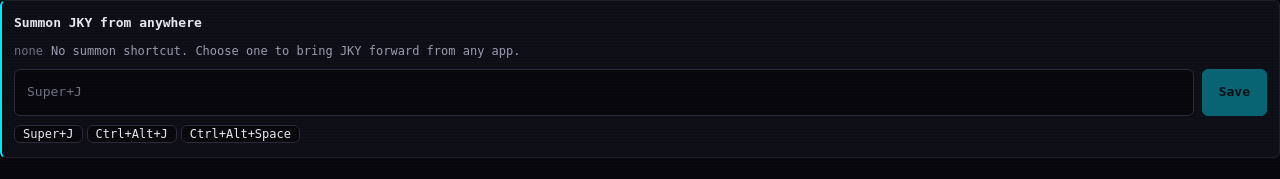
the summon shortcut › saves a typed shortcut in the form Rust stored it
Type "ctrl alt k" into the field named "summon shortcut".
click(604, 92); type("ctrl alt k")  # box [14,69,1194,116]
Then press Enter
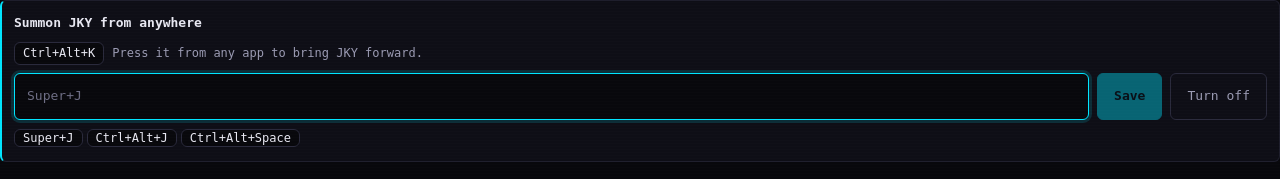
Expected: the text named "current summon shortcut" reads "Ctrl+Alt+K", [23,46,95,60]
